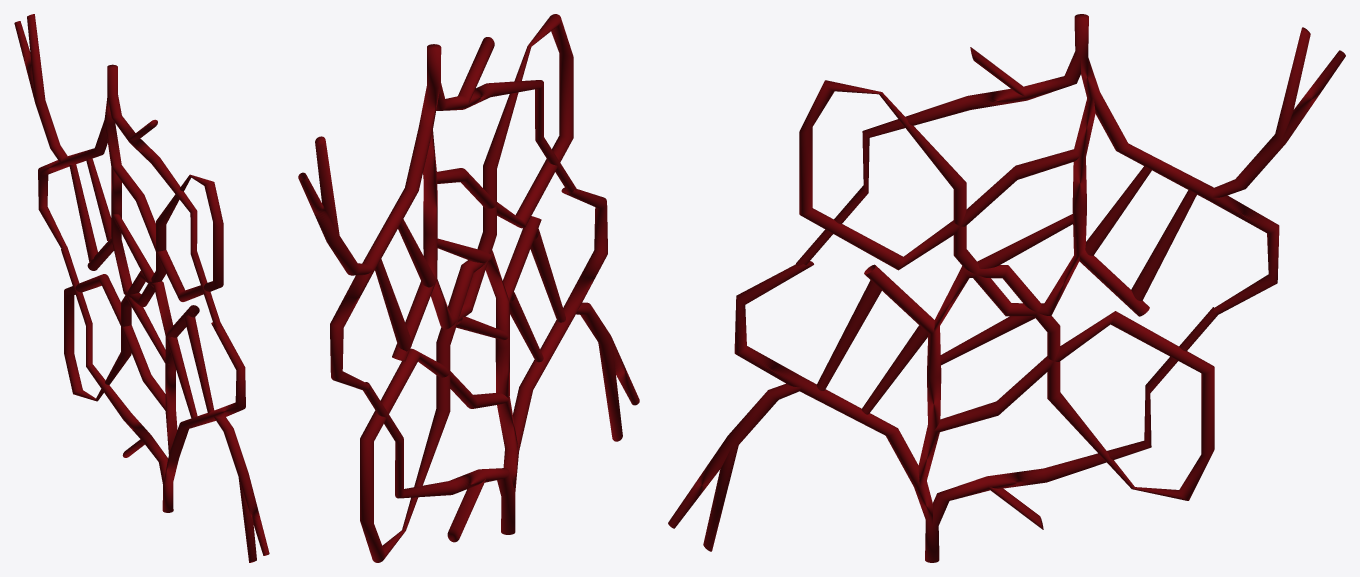
File: veins.fbx
3 views of the same model, side by side, from view 1: azimuth 30°, elevation 25°; view 2: azimuth 150°, elevation 25°; view 3: azimuth 270°, elevation 25° (orthographic). The views are drawn at different scales.
Parts seen in each view (by area): view 1: Cylinder; view 2: Cylinder; view 3: Cylinder.
Part boxes in pixels (x1,y1,x2,y2): Cylinder: [14, 14, 269, 562]; Cylinder: [298, 14, 639, 562]; Cylinder: [668, 14, 1345, 562].
Size of the model in its own units: 32.44 by 989 by 1119.
